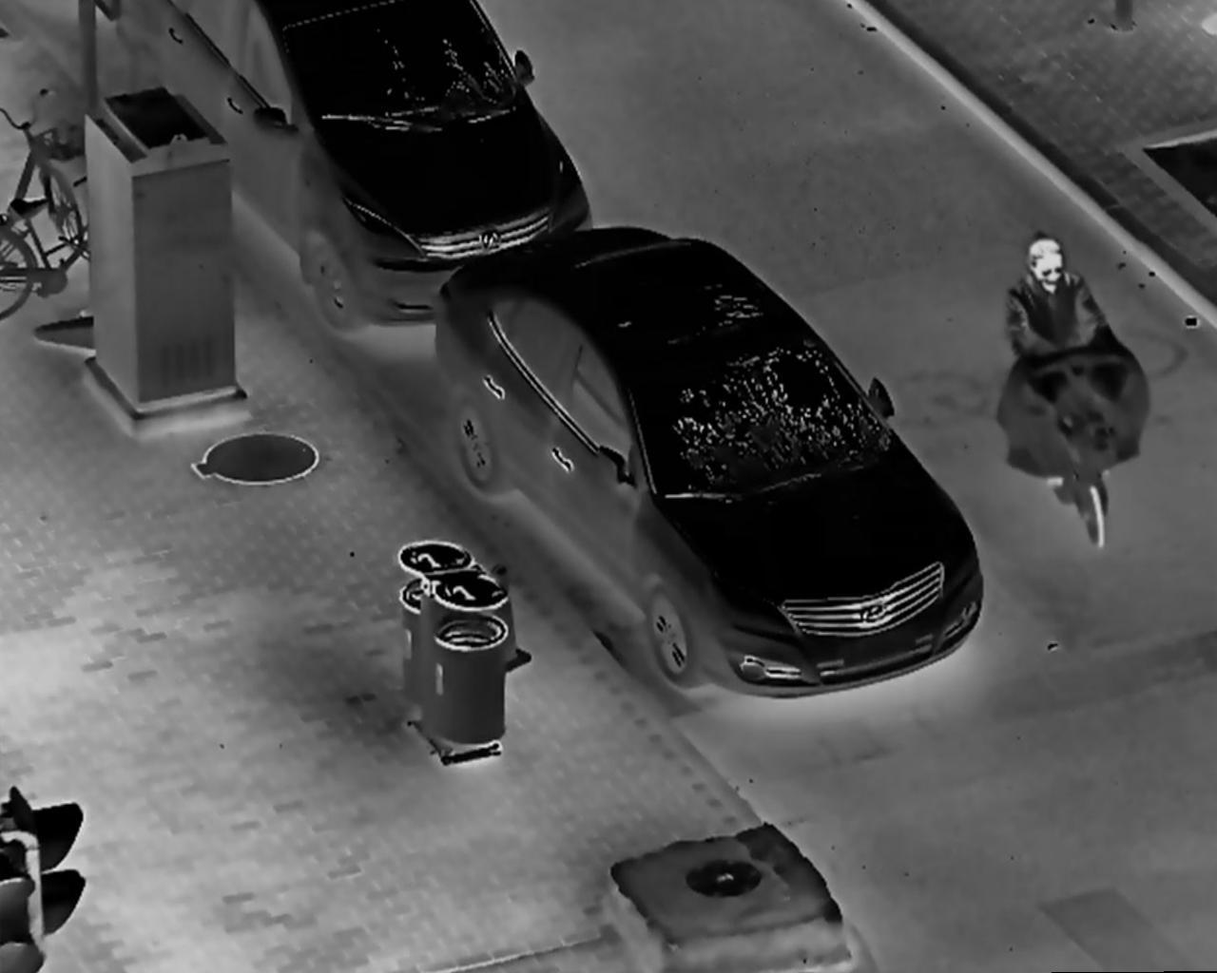person: (1008, 231, 1118, 474)
